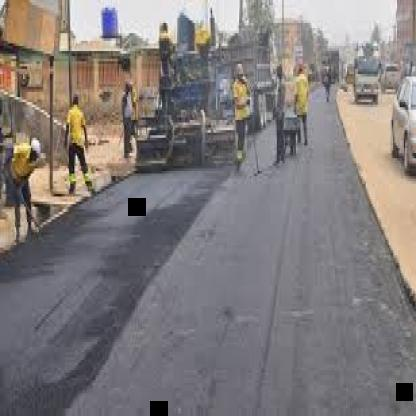car: (345, 31, 389, 113), (386, 77, 416, 171), (379, 52, 404, 90)
